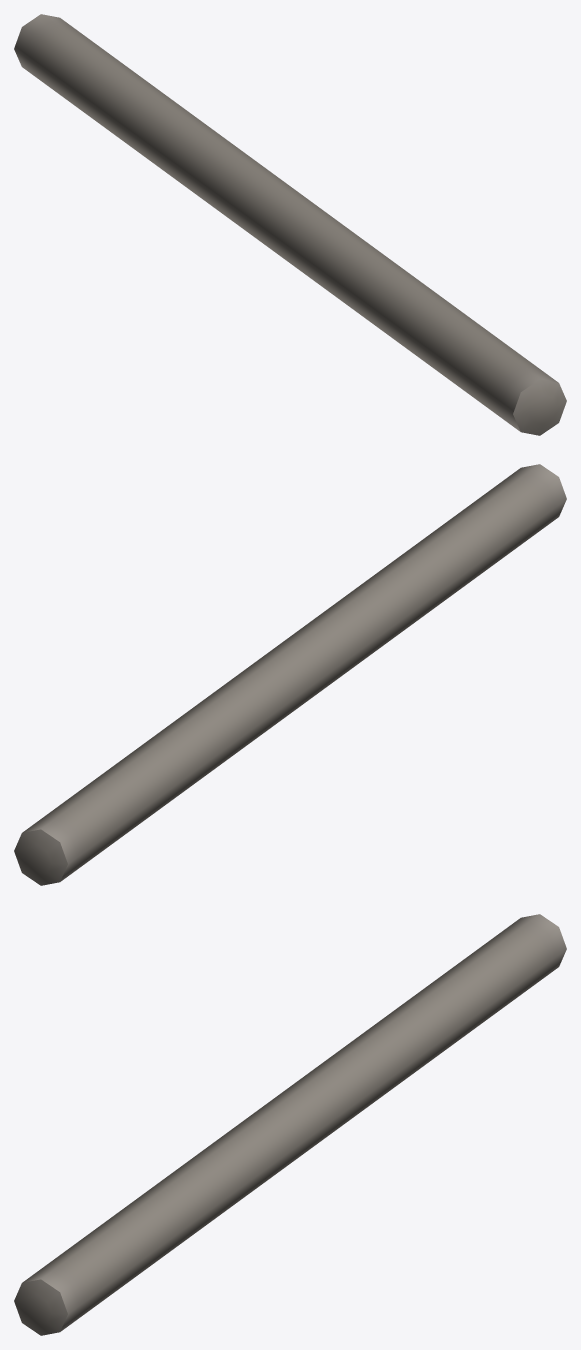
File: Alniyat_Antenna_2_3_Arm.obj
3 views of the same model, one above another, from view 1: azimuth 30°, elevation 25°; view 2: azimuth 150°, elevation 25°; view 3: azimuth 330°, elevation 25° (orthographic).
Visible parts, largest first — view 1: Alniyat_Antenna_2_3_Arm; view 2: Alniyat_Antenna_2_3_Arm; view 3: Alniyat_Antenna_2_3_Arm.
Boxes of the visible parts, x1,y1,x2,y2 form: Alniyat_Antenna_2_3_Arm: [14, 14, 566, 435]; Alniyat_Antenna_2_3_Arm: [14, 464, 566, 885]; Alniyat_Antenna_2_3_Arm: [14, 914, 566, 1335].
Bounding box in the file's own units: 0.025 × 0.025 × 0.405.
